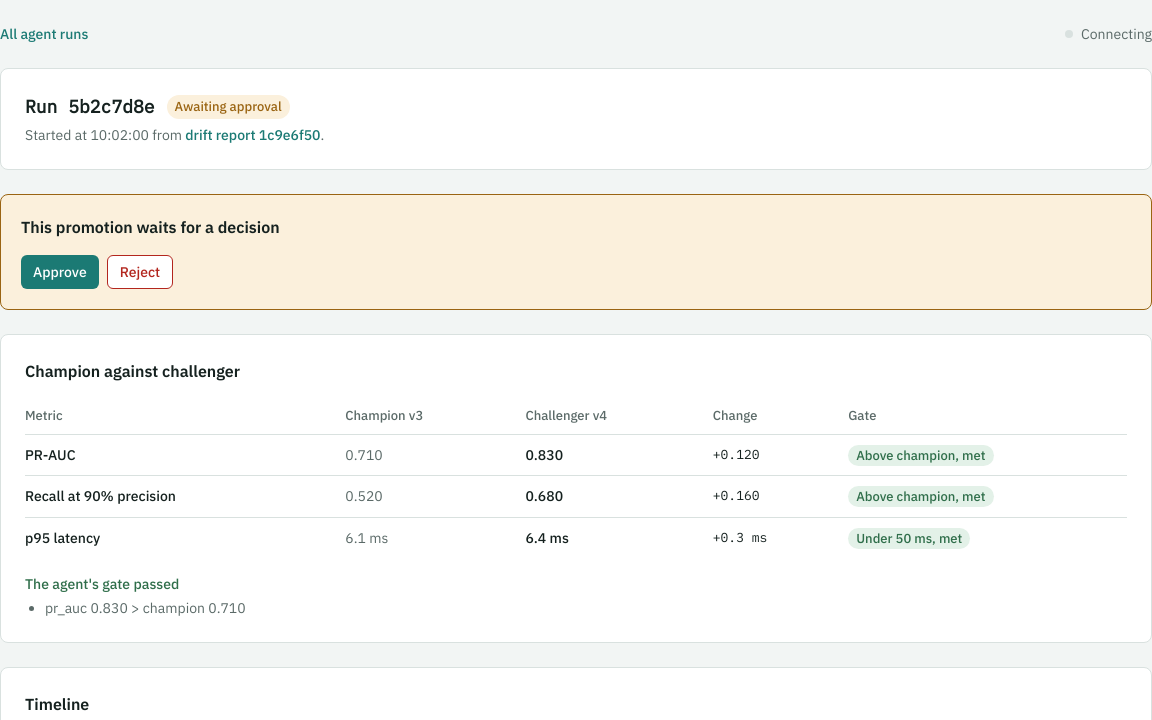
Test: agent run approval › requires a reason to reject and reports conflicts
The image size is (1152, 720).
Click the button "Reject". click: coordinates (140, 272)
box: [107, 255, 173, 289]
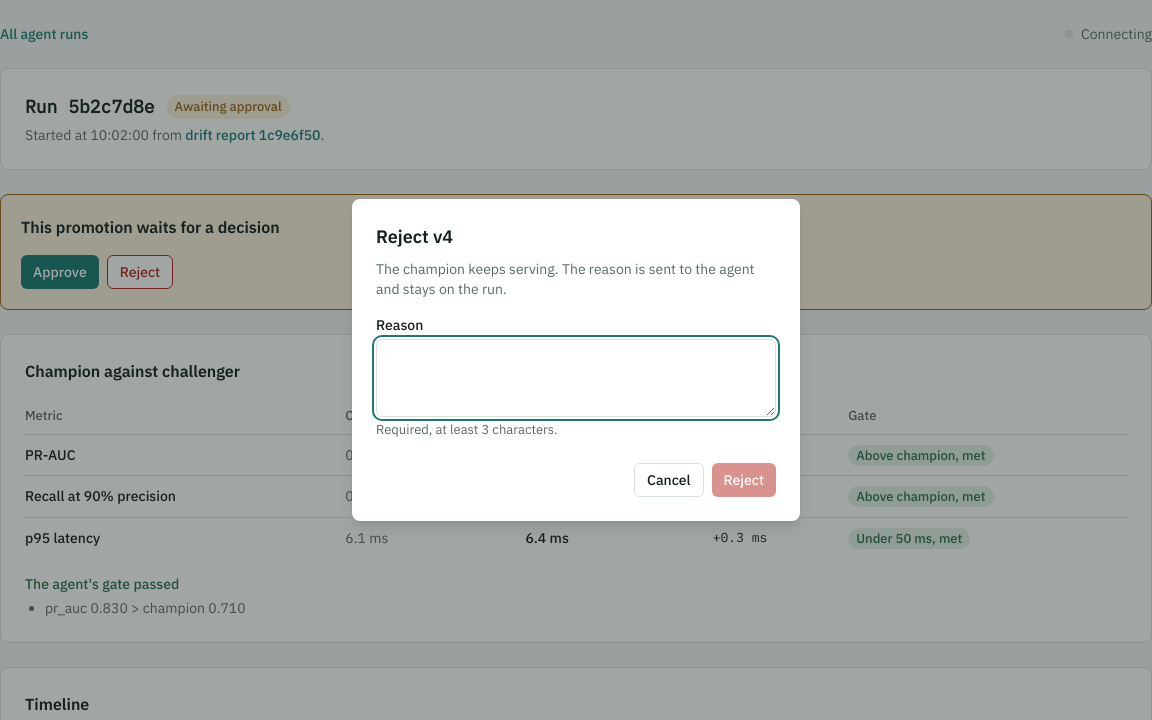
Expected: the button "Reject" is disabled, [712, 463, 776, 497]
Type "  no" into the text box labelled "Reason Required, at least 3 characters.". click: coordinates (576, 378)
box: [376, 339, 776, 417]
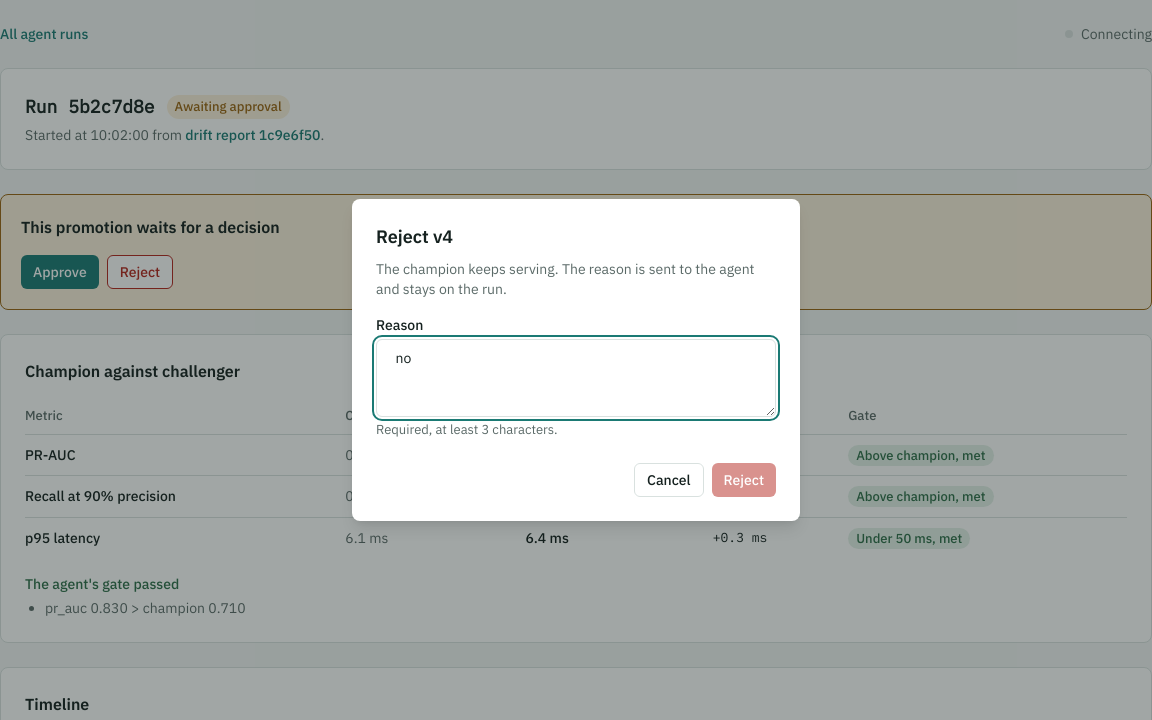
Expected: the button "Reject" is disabled, [712, 463, 776, 497]
Type "t now" into the text box labelled "Reason Required, at least 3 characters.". click: coordinates (576, 378)
box: [376, 339, 776, 417]
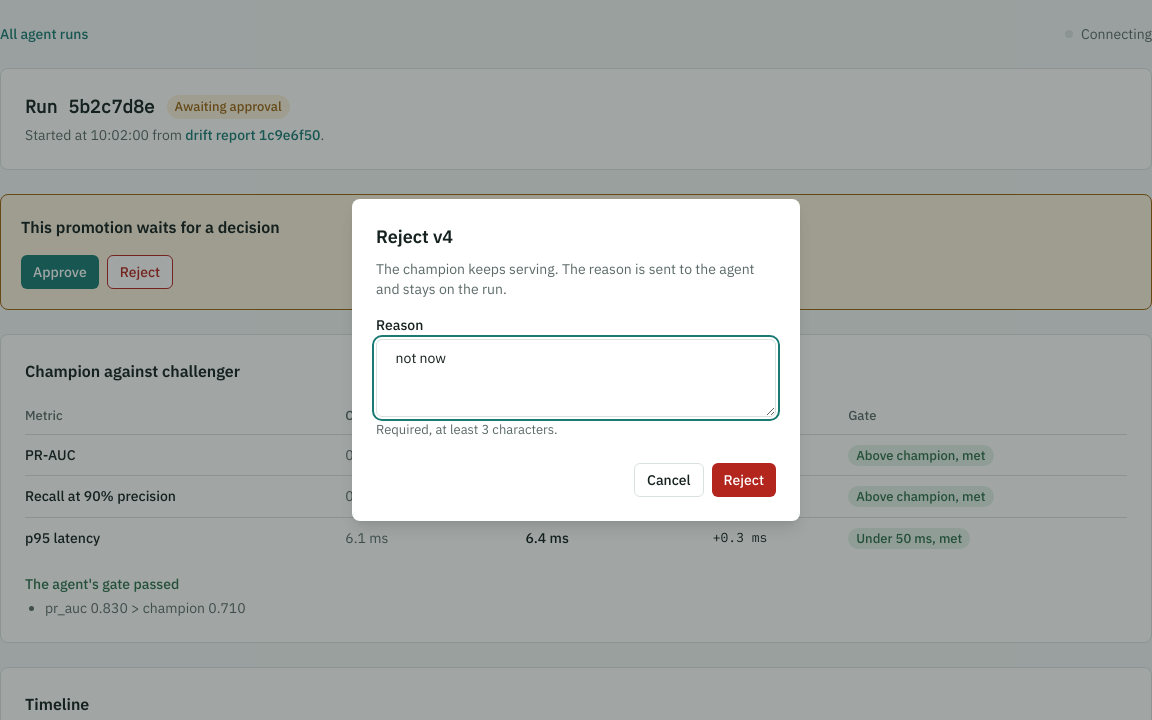
Click the button "Reject". click: coordinates (744, 480)
box: [712, 463, 776, 497]
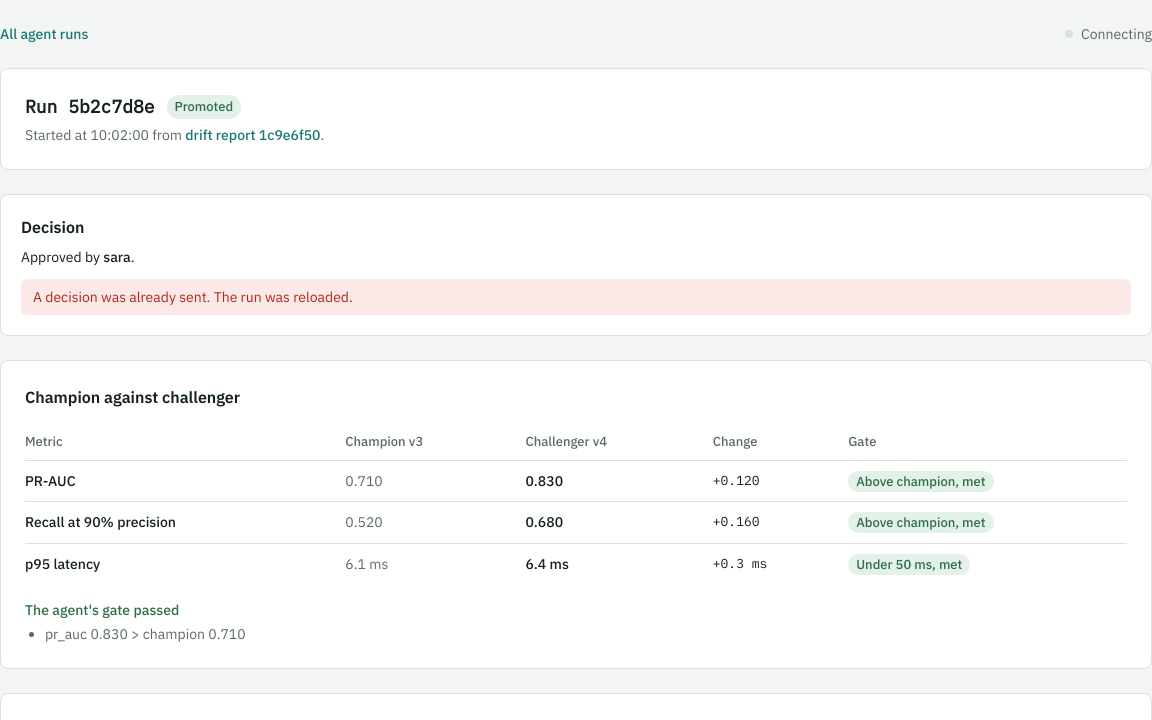
Expected: the message "A decision was already sent. The run was reloaded." is shown, [21, 279, 1131, 315]
Expected: the text "Approved by sara." is shown, [21, 248, 135, 266]
